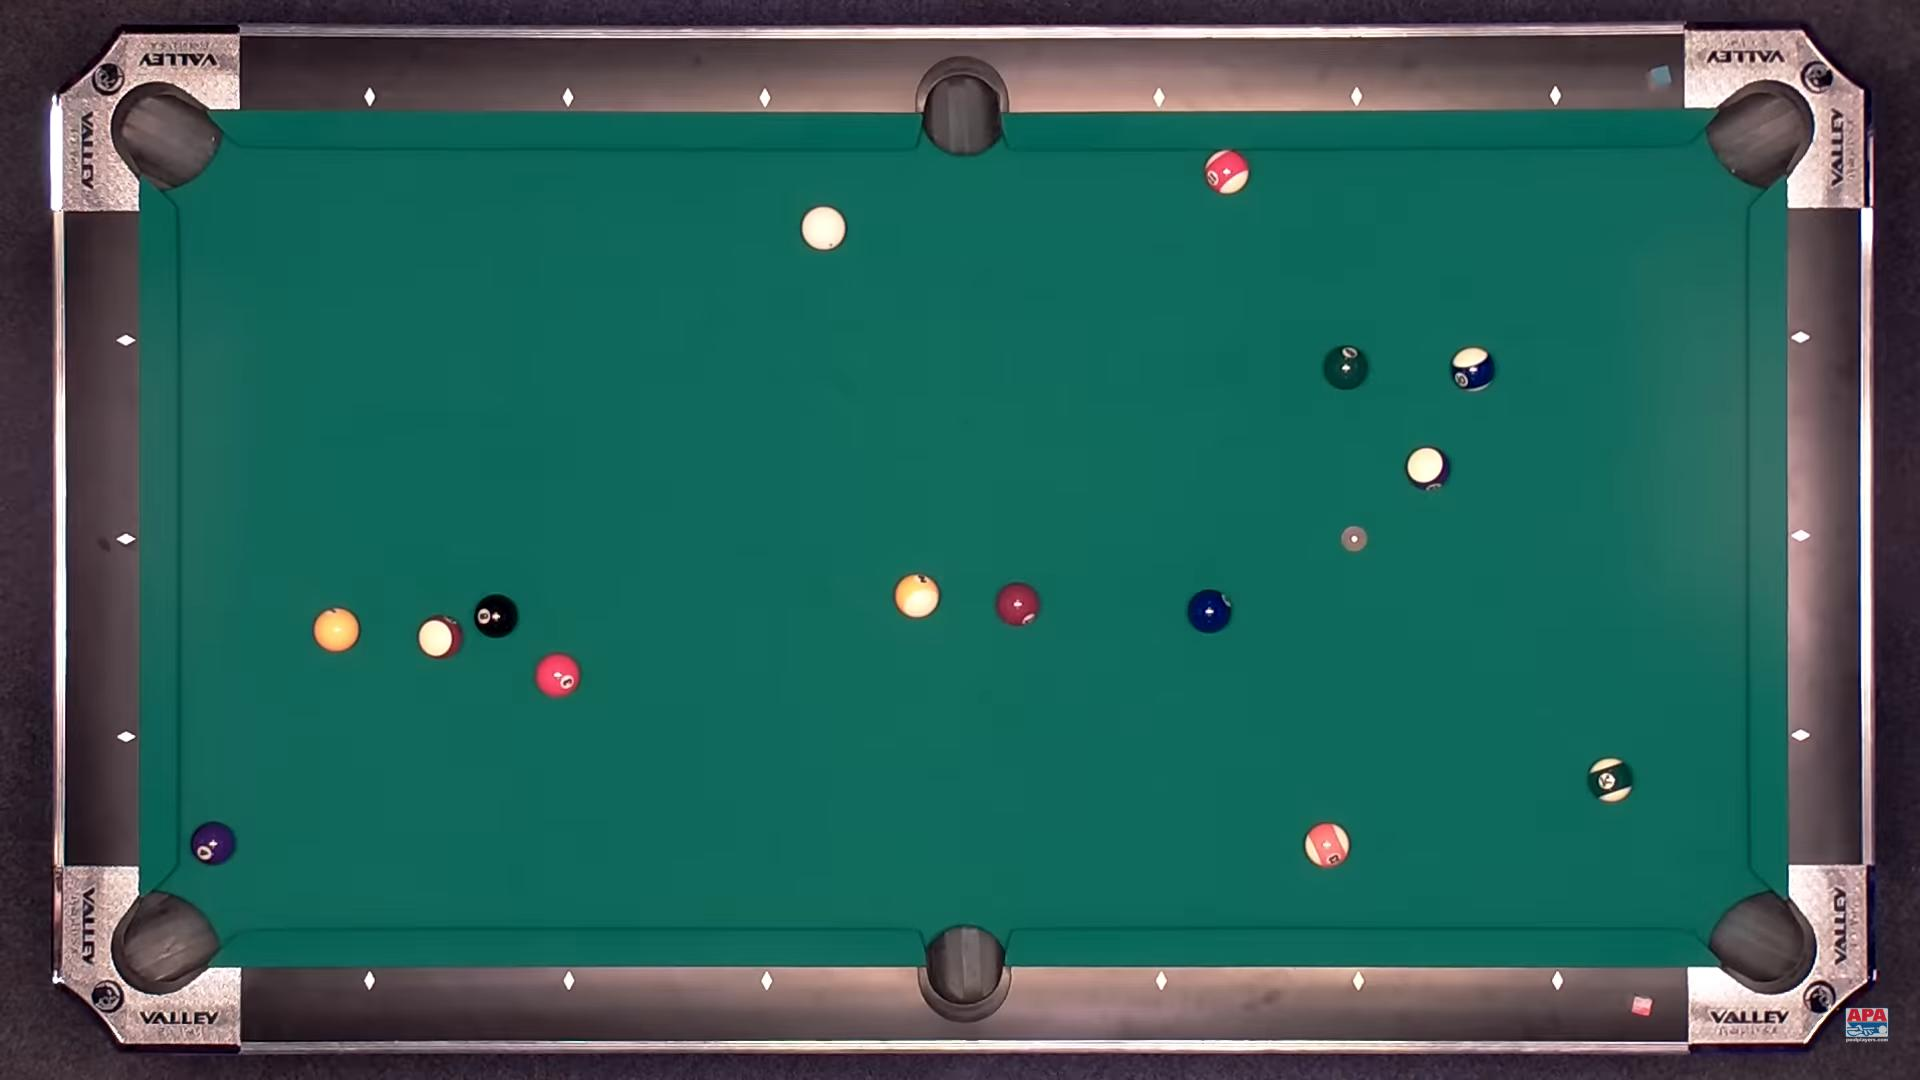Black: (473, 593, 518, 638)
Cue: (802, 207, 847, 251)
Dot: (361, 91, 376, 105), (758, 92, 773, 107), (1153, 91, 1167, 105), (1349, 91, 1364, 105), (1548, 88, 1563, 103), (1793, 331, 1808, 345), (1793, 728, 1808, 742), (1350, 976, 1365, 990), (119, 332, 133, 347), (1793, 530, 1808, 543), (1551, 975, 1564, 989), (1154, 976, 1168, 989), (119, 731, 133, 744), (119, 531, 132, 546), (560, 92, 574, 105), (761, 975, 774, 988), (562, 975, 575, 988), (363, 975, 376, 988)
Solid: (314, 608, 361, 651), (994, 582, 1039, 626), (191, 822, 237, 865), (534, 653, 579, 696), (1324, 345, 1367, 389), (1188, 589, 1232, 633)
Striped: (1586, 757, 1633, 802), (1304, 822, 1350, 866), (1404, 446, 1451, 491), (1204, 149, 1250, 194), (415, 615, 463, 658), (1451, 348, 1495, 393), (894, 574, 939, 618)
